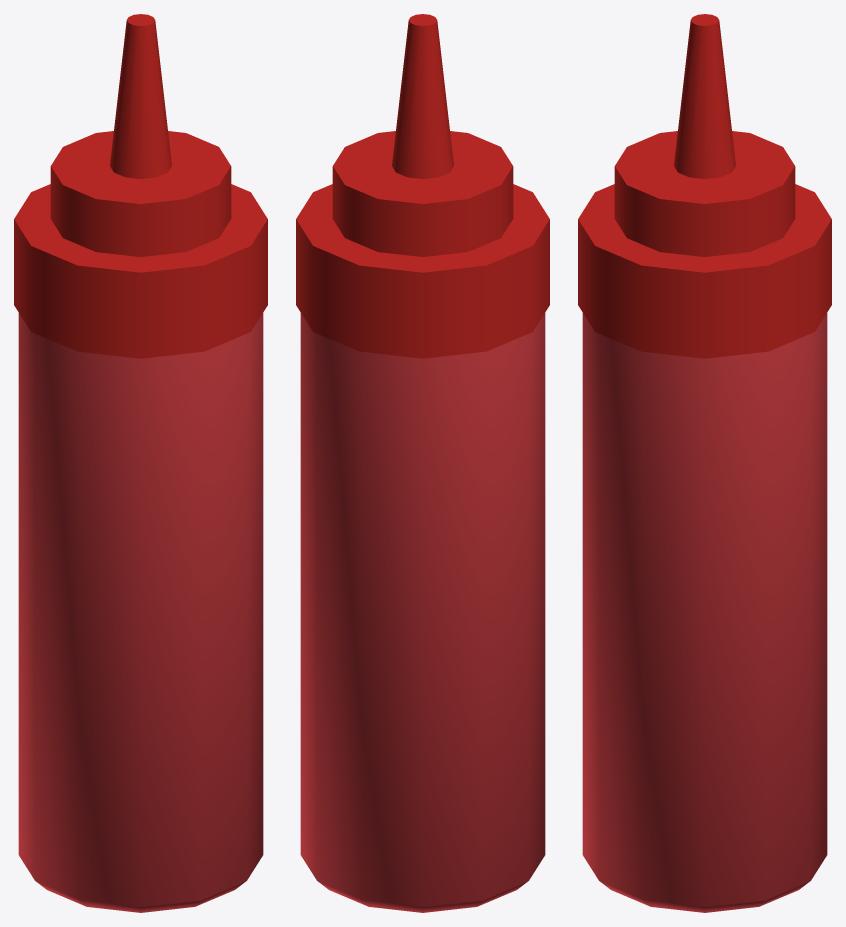
The model's file is ketchup.fbx.
3 renders of one model, left to right at view 1: azimuth 30°, elevation 25°; view 2: azimuth 150°, elevation 25°; view 3: azimuth 270°, elevation 25°, orthographic.
Visible parts, largest first — view 1: ketchup; view 2: ketchup; view 3: ketchup.
Boxes of the visible parts, x1,y1,x2,y2 form: ketchup: (14,14,267,912); ketchup: (296,14,549,912); ketchup: (578,14,831,912).
Size of the model in its own units: 5.24 by 19.28 by 5.24.
Materials: 1 (1 with a texture image).
